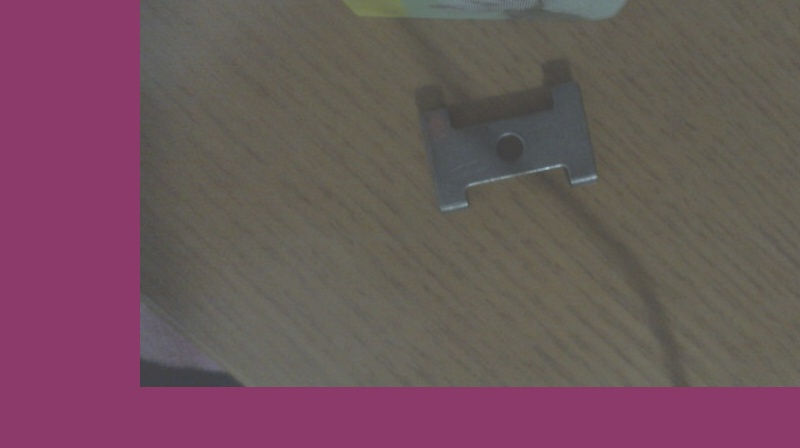O002: (418, 76, 602, 213)
